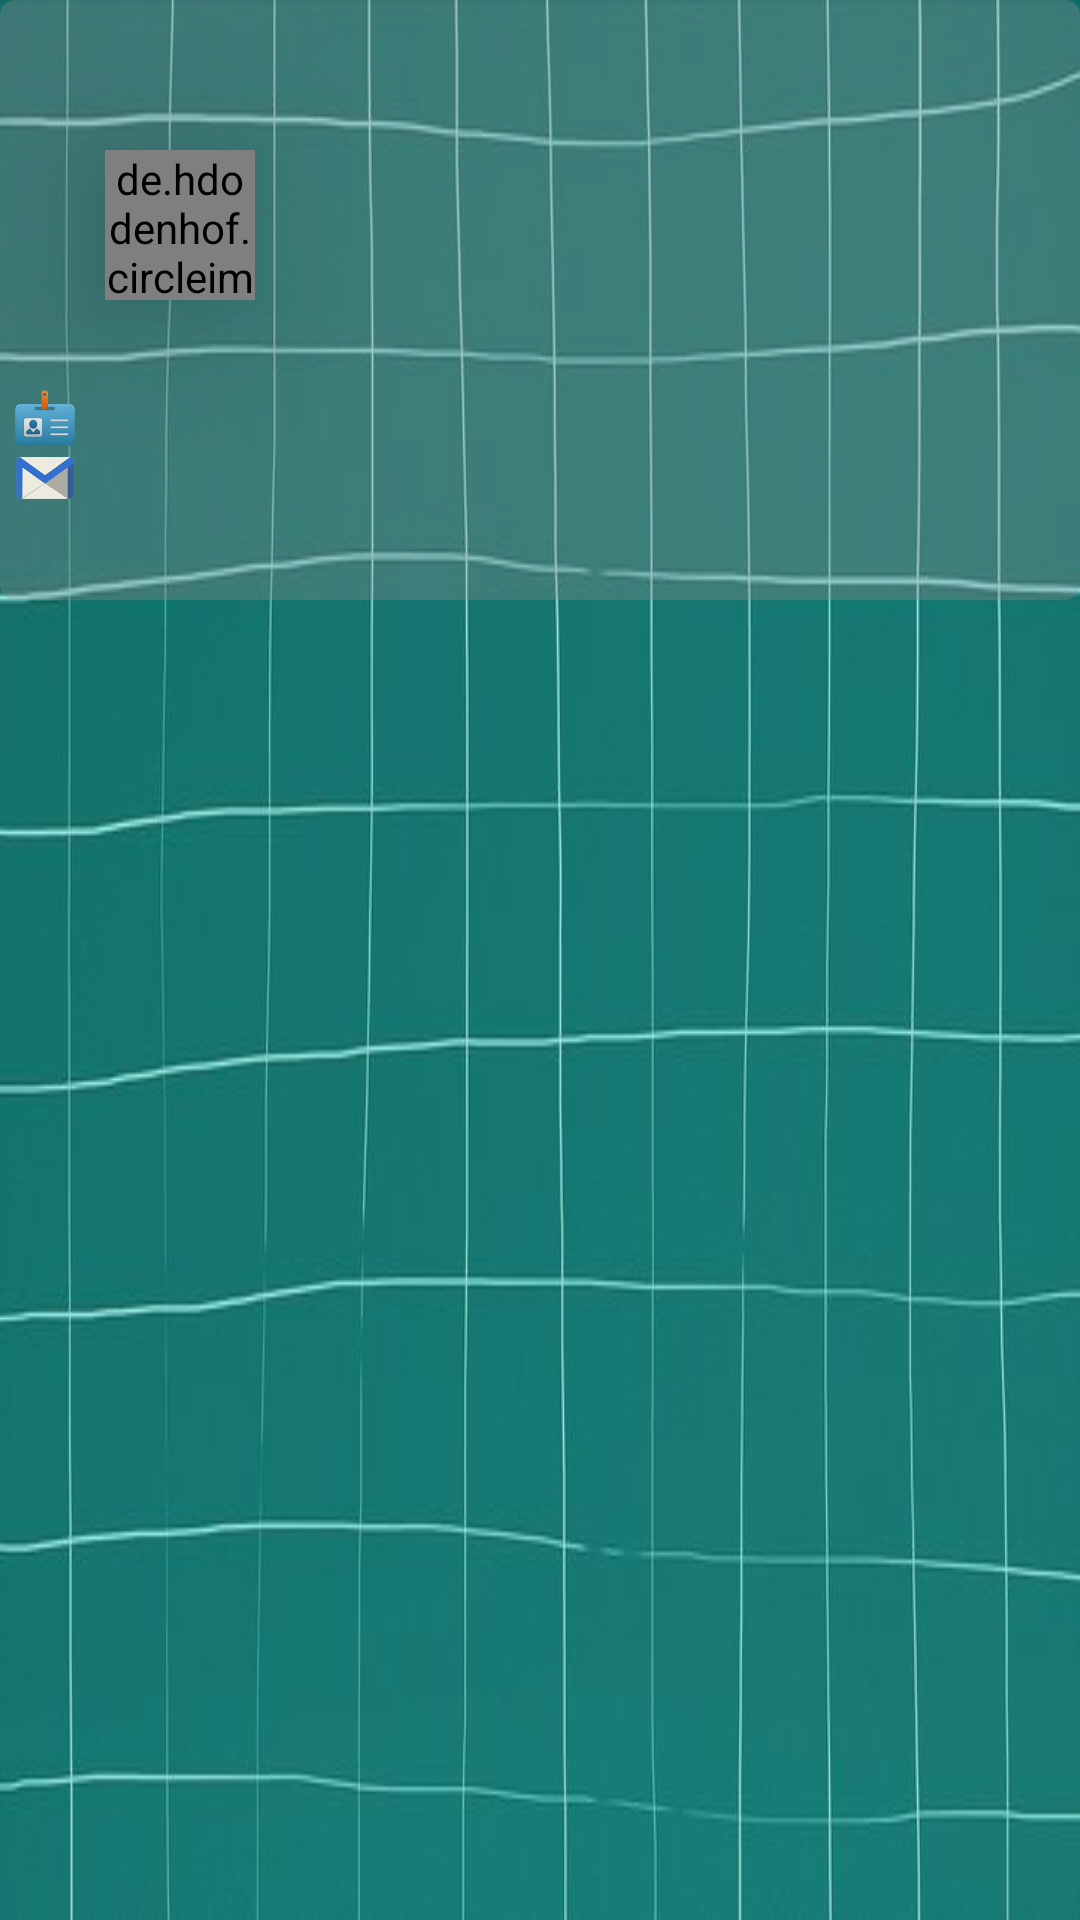

Where to tap for icons on this 1080 × 1920 app screen, as [x,y]:
email: [45,478]
